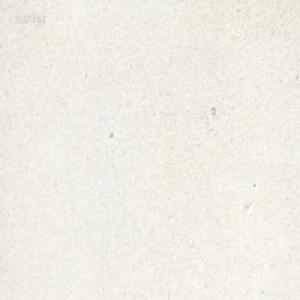Washer: (210, 105, 216, 115)
